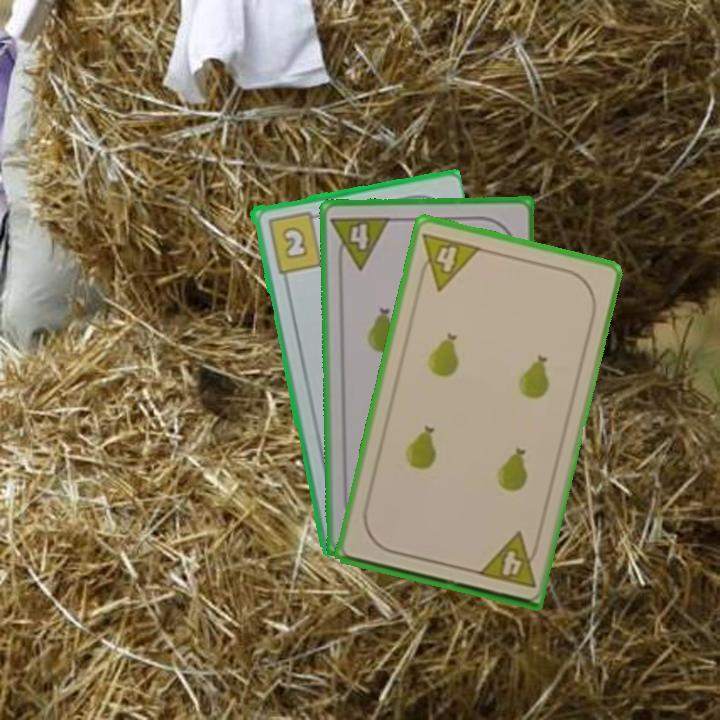2b: (263, 207, 325, 276)
4p: (413, 229, 484, 294), (474, 529, 543, 591), (328, 212, 393, 273)
